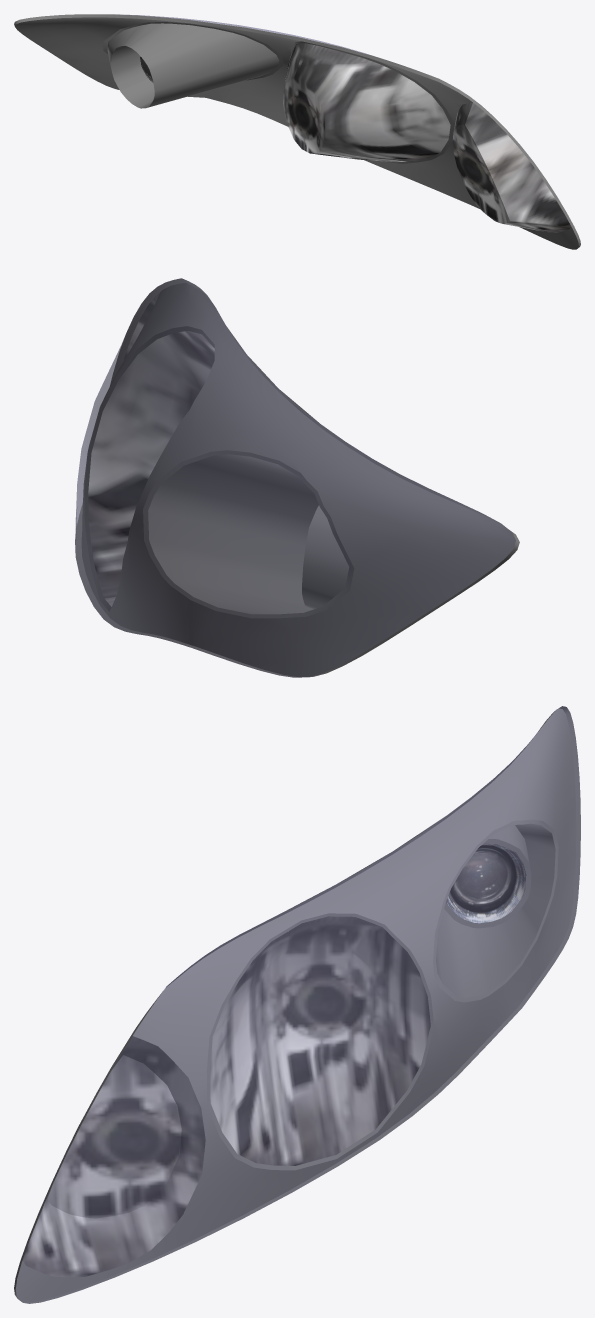
The picture shows the model from 3 angles, top to bottom: view 1: azimuth 30°, elevation 25°; view 2: azimuth 150°, elevation 25°; view 3: azimuth 270°, elevation 25°; orthographic projection. The views are drawn at different scales.
Visible parts, largest first — view 1: Y212_061B_L_Y212_061B_L_3_DaS, Y212_061B_L_1_N_Y212_061B_L, Y212_061B_L_Y212_061B_L_2_N, Y212_061B_L_Y212_061B_L_5_DTaSI; view 2: Y212_061B_L_Y212_061B_L_5_DTaSI, Y212_061B_L_Y212_061B_L_3_DaS, Y212_061B_L_1_N_Y212_061B_L; view 3: Y212_061B_L_Y212_061B_L_5_DTaSI, Y212_061B_L_Y212_061B_L_3_DaS, Y212_061B_L_1_N_Y212_061B_L, Y212_061B_L_Y212_061B_L_2_N, Y212_061B_L_Y212_061B_L_4_N.
Boxes of the visible parts, box(x1,y1,x2,y2) form: Y212_061B_L_Y212_061B_L_3_DaS: box(14, 14, 580, 249); Y212_061B_L_1_N_Y212_061B_L: box(283, 43, 450, 162); Y212_061B_L_Y212_061B_L_2_N: box(452, 102, 570, 232); Y212_061B_L_Y212_061B_L_5_DTaSI: box(116, 14, 372, 55); Y212_061B_L_Y212_061B_L_5_DTaSI: box(75, 278, 515, 677); Y212_061B_L_Y212_061B_L_3_DaS: box(75, 278, 519, 677); Y212_061B_L_1_N_Y212_061B_L: box(88, 331, 214, 606); Y212_061B_L_Y212_061B_L_5_DTaSI: box(16, 706, 580, 1303); Y212_061B_L_Y212_061B_L_3_DaS: box(14, 706, 580, 1303); Y212_061B_L_1_N_Y212_061B_L: box(210, 916, 430, 1165); Y212_061B_L_Y212_061B_L_2_N: box(23, 1036, 205, 1277); Y212_061B_L_Y212_061B_L_4_N: box(446, 843, 526, 923).
Bounding box in the file's own units: 52.67 × 25.76 × 42.65.
